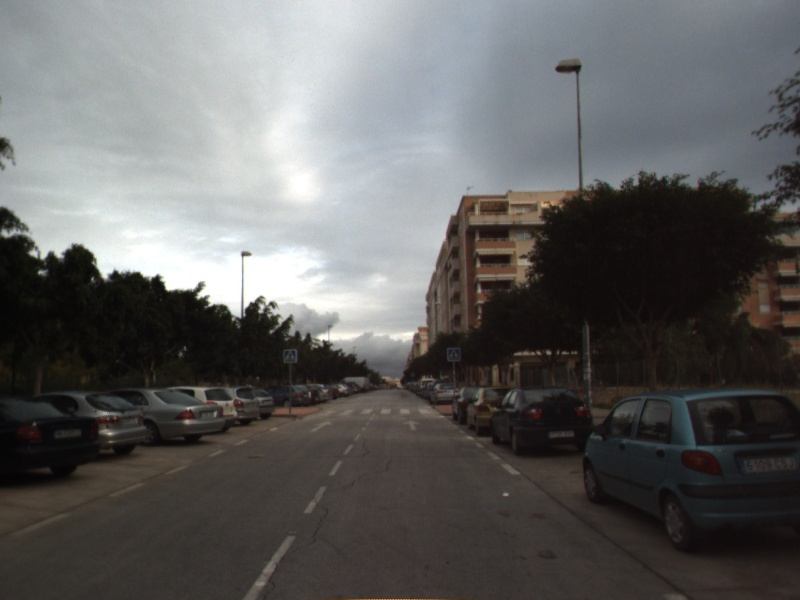STRAIGHT: (307, 419, 336, 434), (401, 418, 423, 432)
